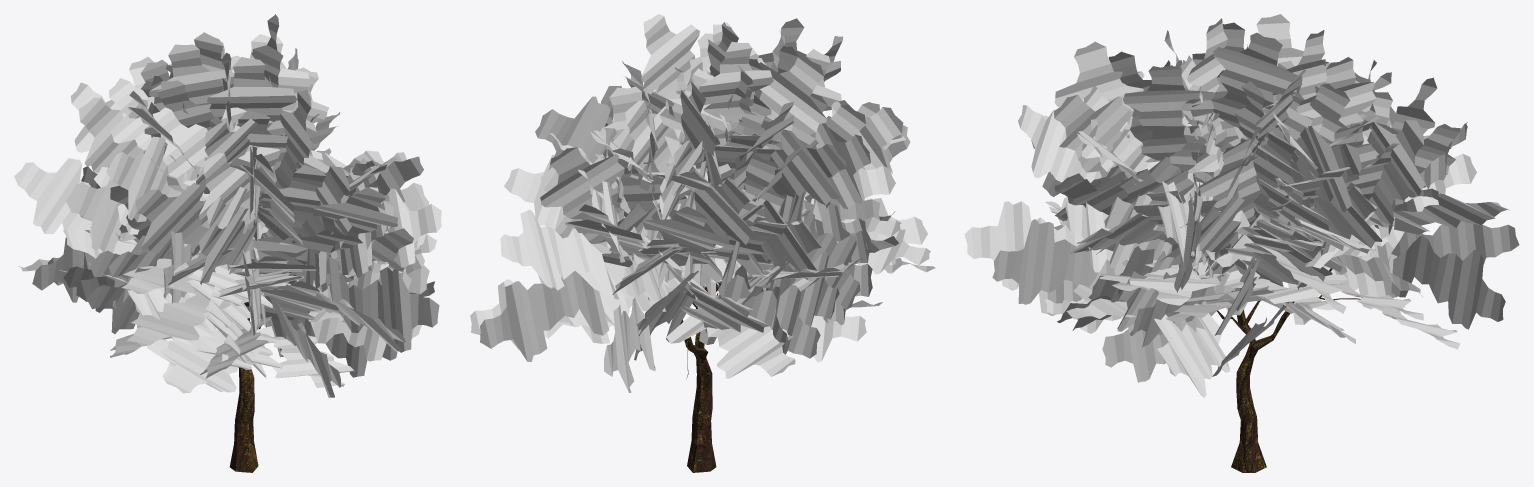
Rendered from cerezo_flores.fbx.
3 renders of one model, left to right at view 1: azimuth 30°, elevation 25°; view 2: azimuth 150°, elevation 25°; view 3: azimuth 270°, elevation 25°, orthographic. The views are drawn at different scales.
Parts seen in each view (by area): view 1: Tree.001|Tree Branch|Dupli|14; view 2: Tree.001|Tree Branch|Dupli|14; view 3: Tree.001|Tree Branch|Dupli|14.
Part boxes in pixels (box(x1,y1,x2,y2)): Tree.001|Tree Branch|Dupli|14: box(14, 14, 441, 472); Tree.001|Tree Branch|Dupli|14: box(470, 14, 935, 472); Tree.001|Tree Branch|Dupli|14: box(964, 14, 1519, 472).
Bounding box in the file's own units: 2695 × 3439 × 3810.
